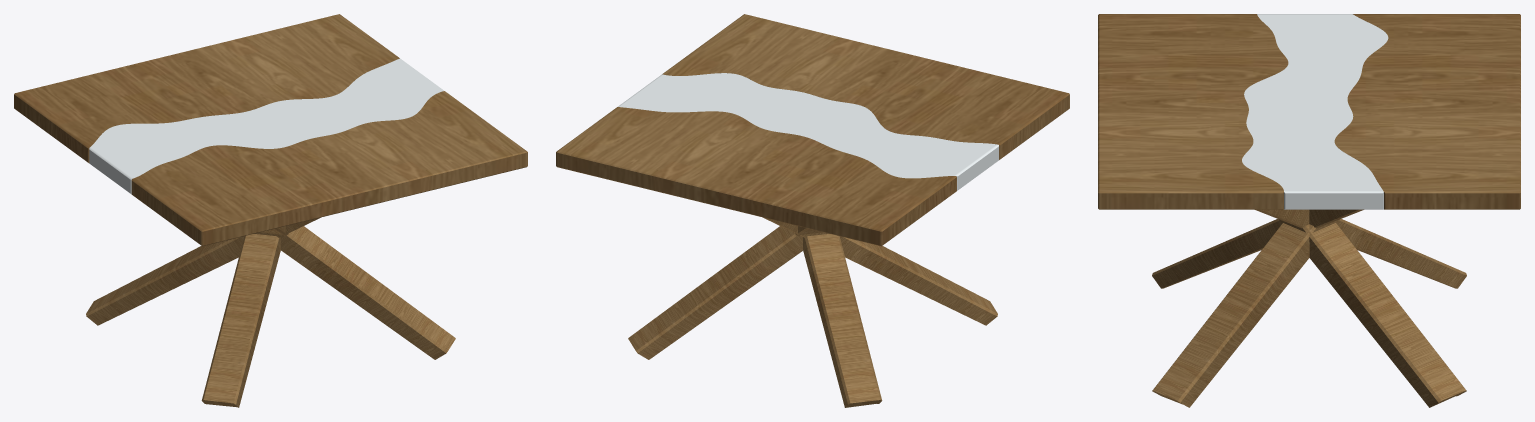
File: square-oak-epoxy-clear.glb
3 renders of one model, left to right at view 1: azimuth 30°, elevation 25°; view 2: azimuth 150°, elevation 25°; view 3: azimuth 270°, elevation 25°, orthographic. The views are drawn at different scales.
Visible parts, largest first — view 1: Wood_Square_EpoxyFar, Wood_Square_EpoxyNear, Base_Square, Resin_Square; view 2: Wood_Square_EpoxyNear, Wood_Square_EpoxyFar, Base_Square, Resin_Square; view 3: Wood_Square_EpoxyFar, Wood_Square_EpoxyNear, Base_Square, Resin_Square.
Boxes of the visible parts, x1,y1,x2,y2 form: Wood_Square_EpoxyFar: (131, 91, 527, 246); Wood_Square_EpoxyNear: (14, 14, 399, 162); Base_Square: (86, 217, 455, 407); Resin_Square: (89, 58, 443, 194); Wood_Square_EpoxyNear: (556, 107, 956, 246); Wood_Square_EpoxyFar: (662, 14, 1069, 159); Base_Square: (628, 217, 997, 407); Resin_Square: (618, 73, 998, 190); Wood_Square_EpoxyFar: (1098, 14, 1288, 209); Wood_Square_EpoxyNear: (1334, 14, 1520, 209); Base_Square: (1152, 209, 1466, 407); Resin_Square: (1242, 14, 1388, 209).
Bounding box in the file's own units: 1.22 × 0.762 × 1.22.
2 materials, 1 textured.
